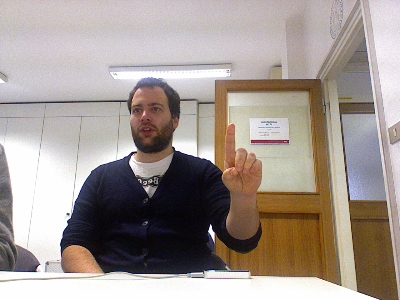食指: (221, 122, 263, 196)
